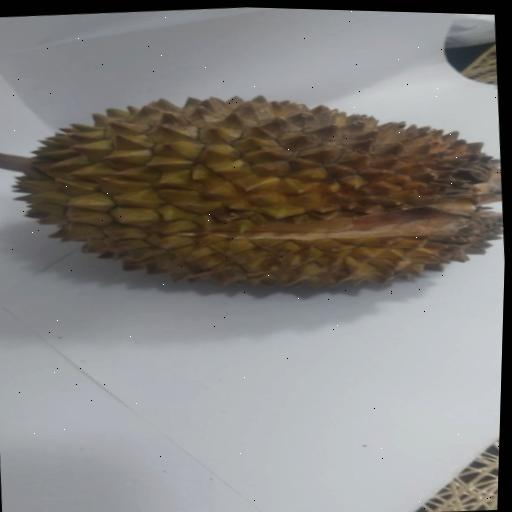rot: (0, 58, 510, 332)
